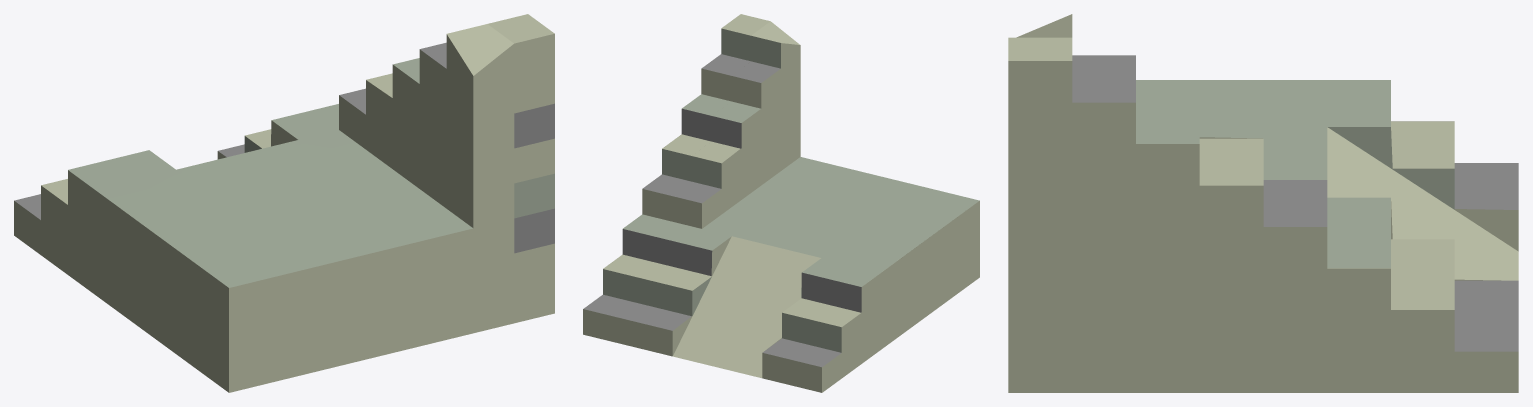
Rendered from Escaliers mat 4.fbx.
3 renders of one model, left to right at view 1: azimuth 30°, elevation 25°; view 2: azimuth 150°, elevation 25°; view 3: azimuth 270°, elevation 25°, orthographic. The views are drawn at different scales.
Visible parts, largest first — view 1: Stairs V0.3.006; view 2: Stairs V0.3.006; view 3: Stairs V0.3.006.
Boxes of the visible parts, box(x1,y1,x2,y2) form: Stairs V0.3.006: box(14, 14, 554, 392); Stairs V0.3.006: box(583, 14, 979, 392); Stairs V0.3.006: box(1008, 14, 1518, 392).
Bounding box in the file's own units: 142 × 117 × 163.
